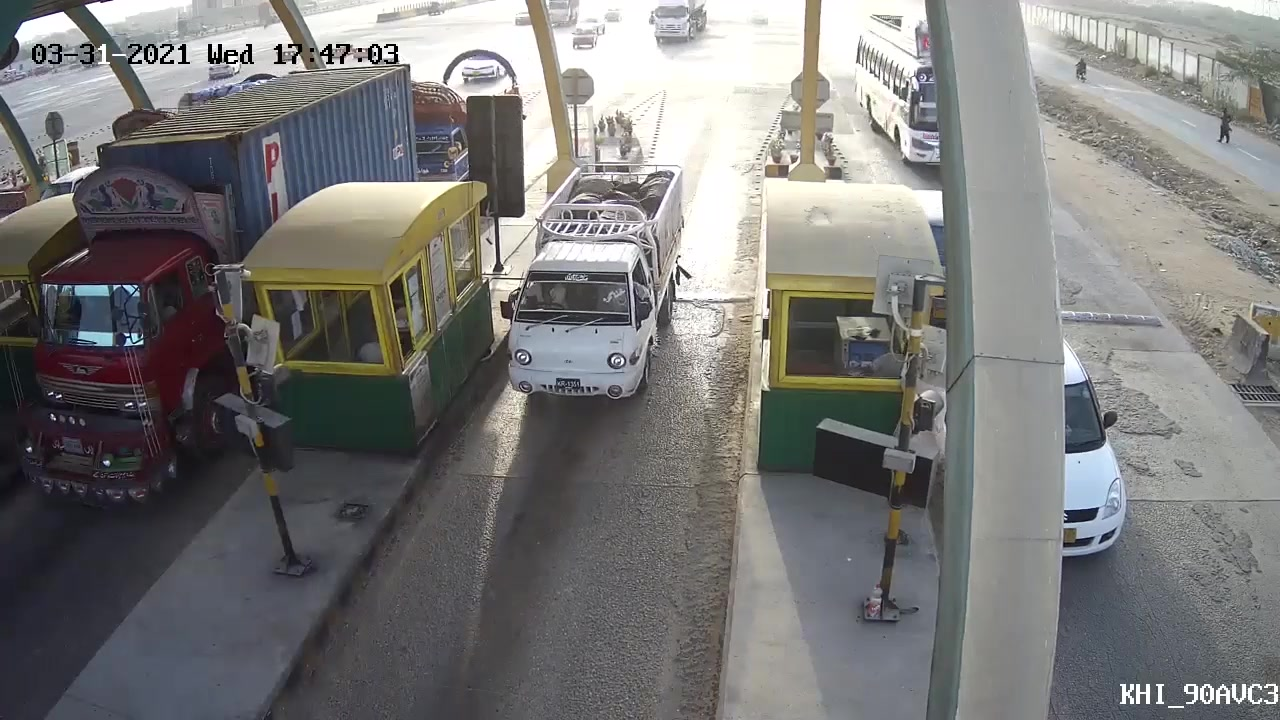F3: (499, 138, 689, 417)
